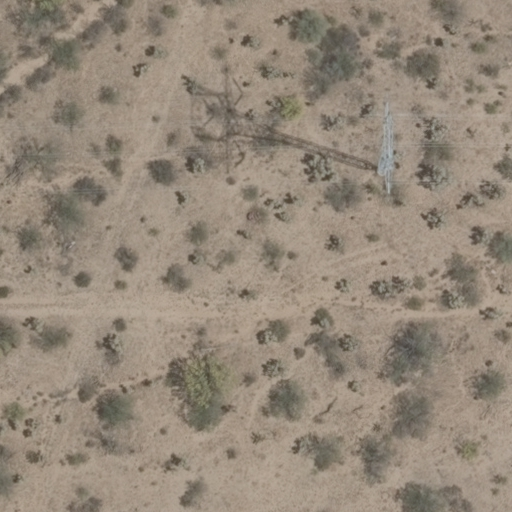TT: (364, 91, 411, 199)
